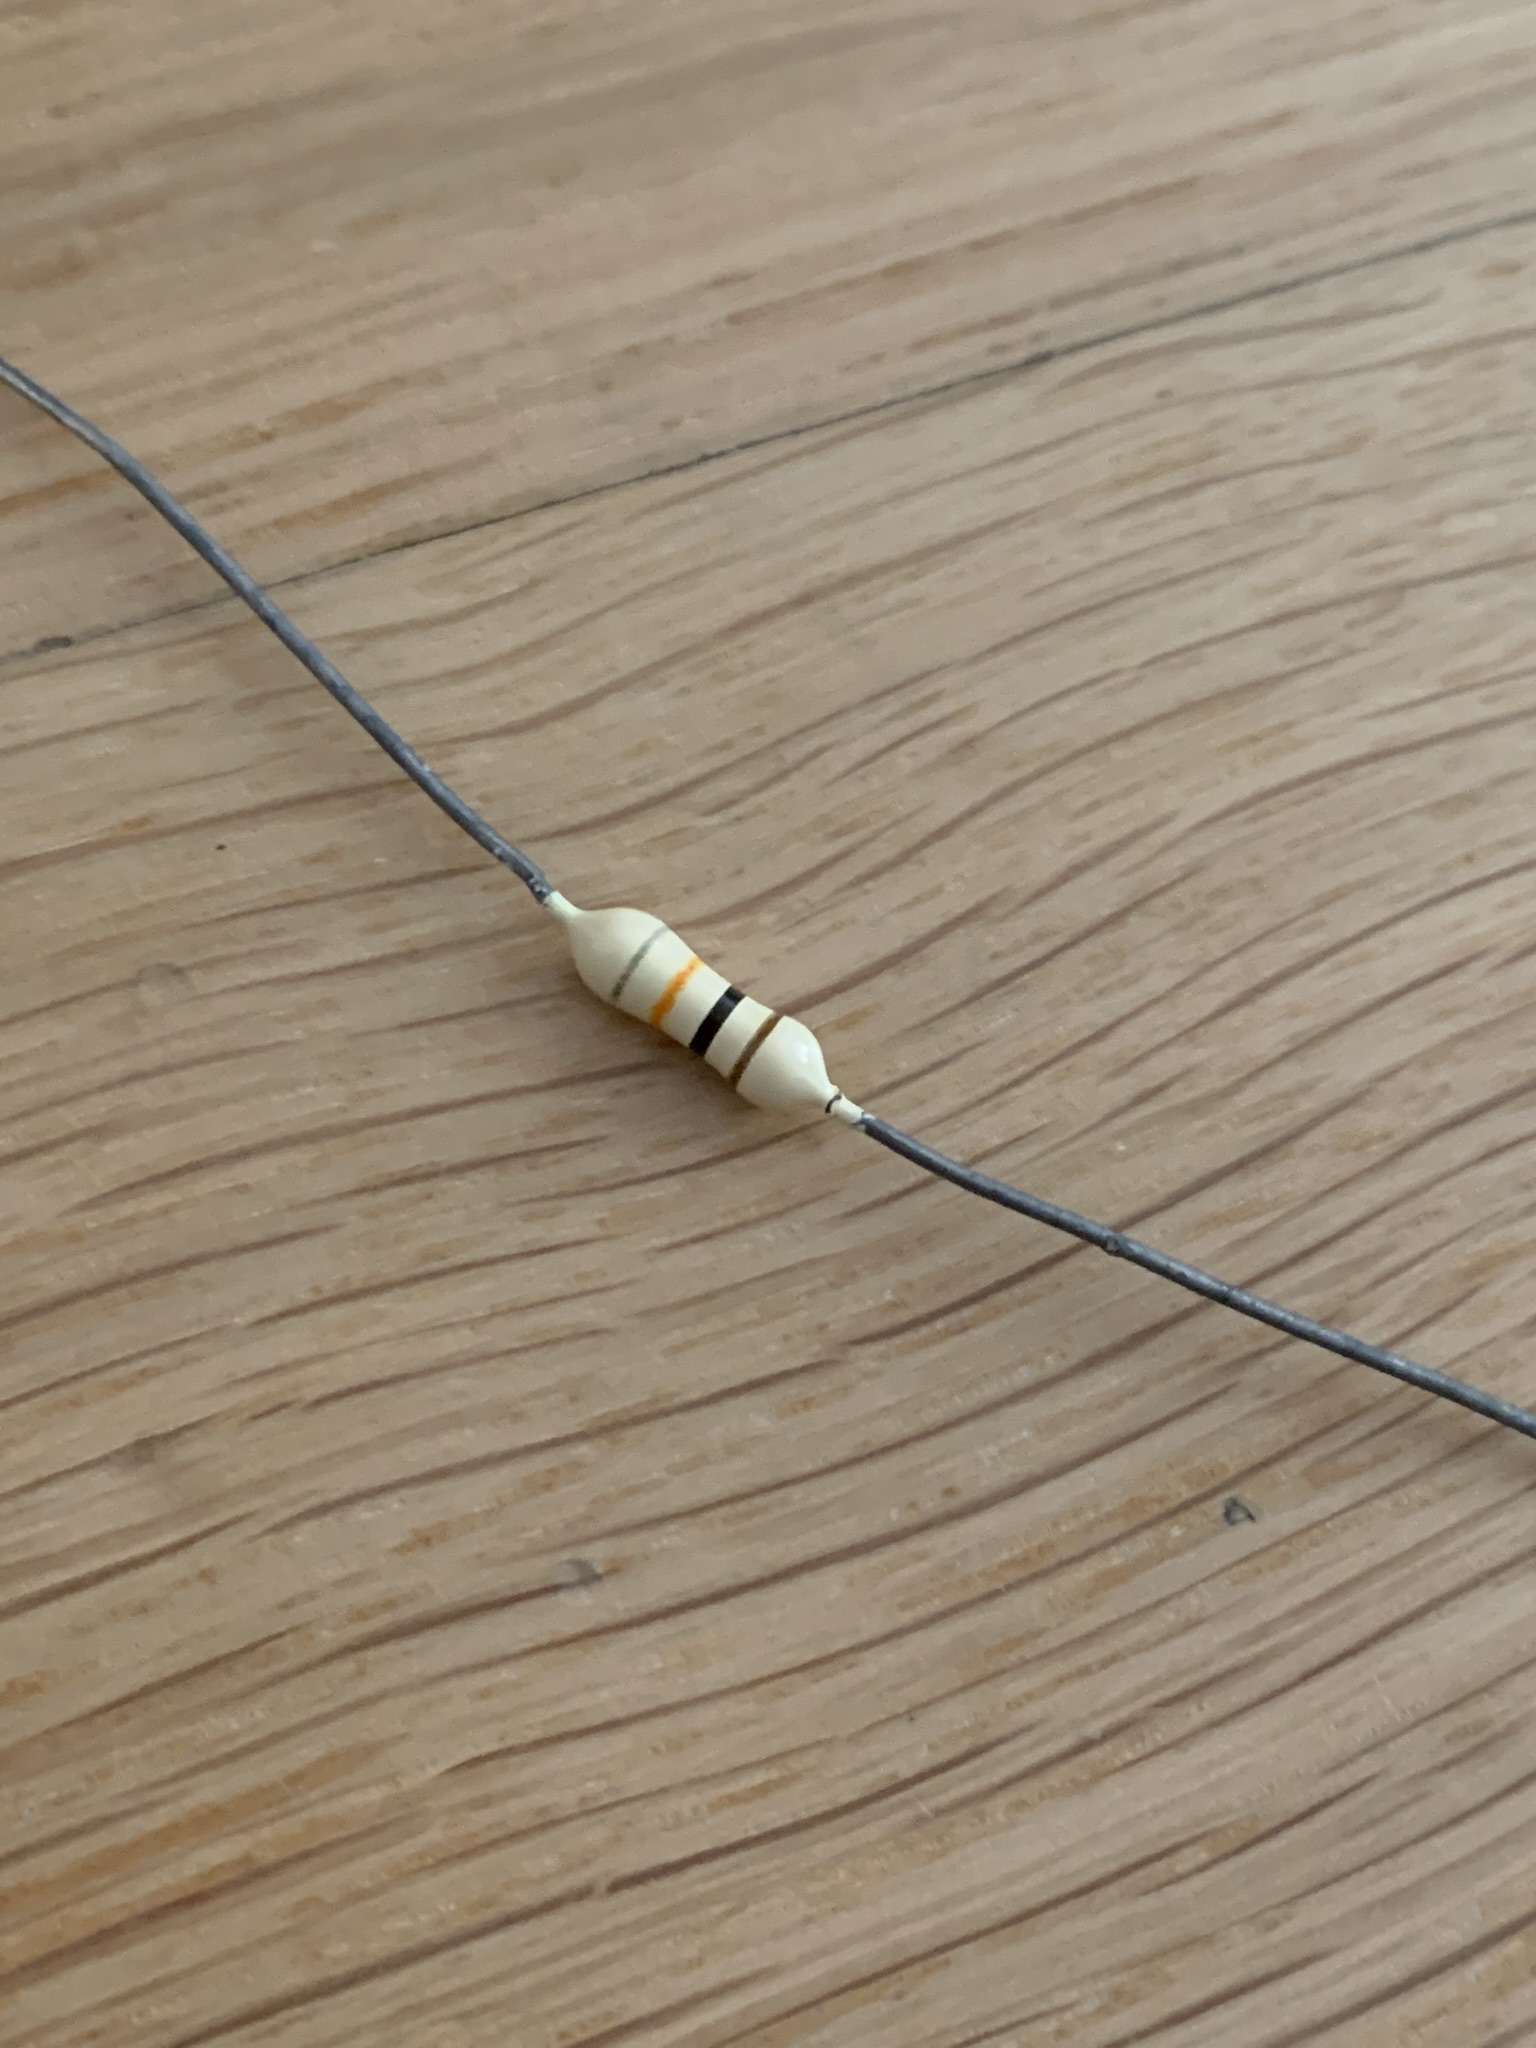resistor_thd: (573, 906, 828, 1118)
